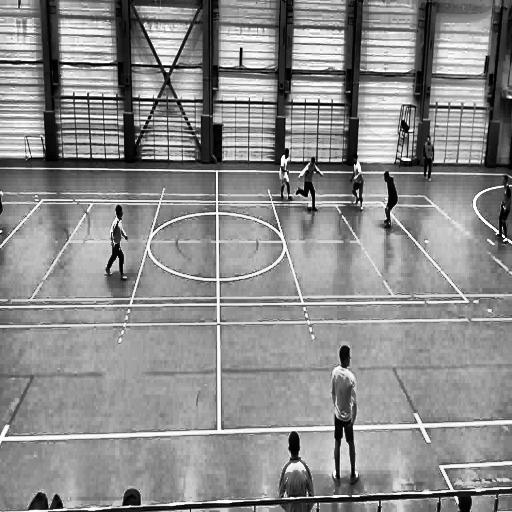ball: (305, 200, 313, 214)
player: (328, 344, 362, 492), (103, 202, 131, 282), (295, 155, 321, 214), (494, 168, 512, 247), (379, 170, 399, 238), (348, 150, 368, 215), (275, 144, 293, 204), (422, 133, 435, 184)
